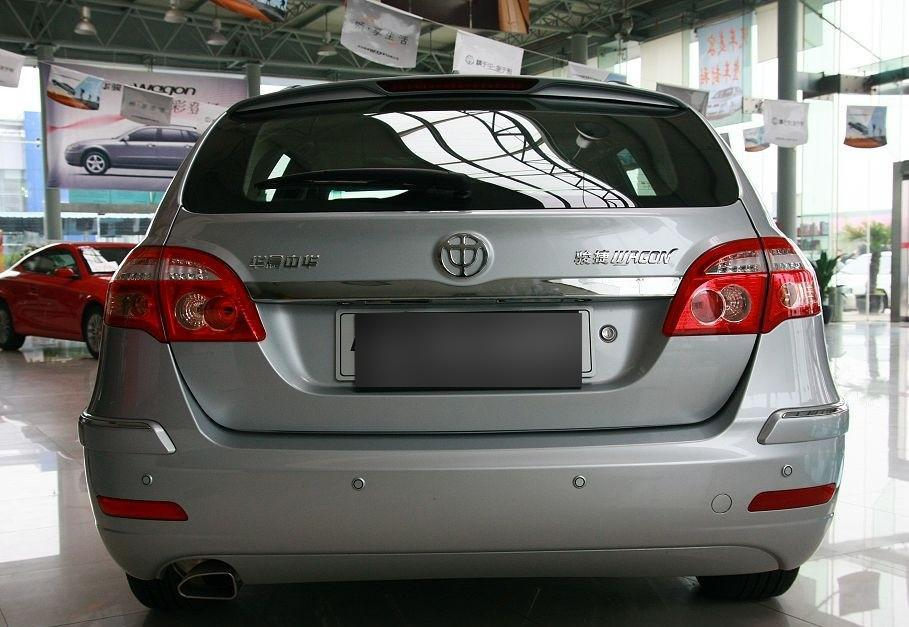Wagon: (79, 74, 849, 613)
